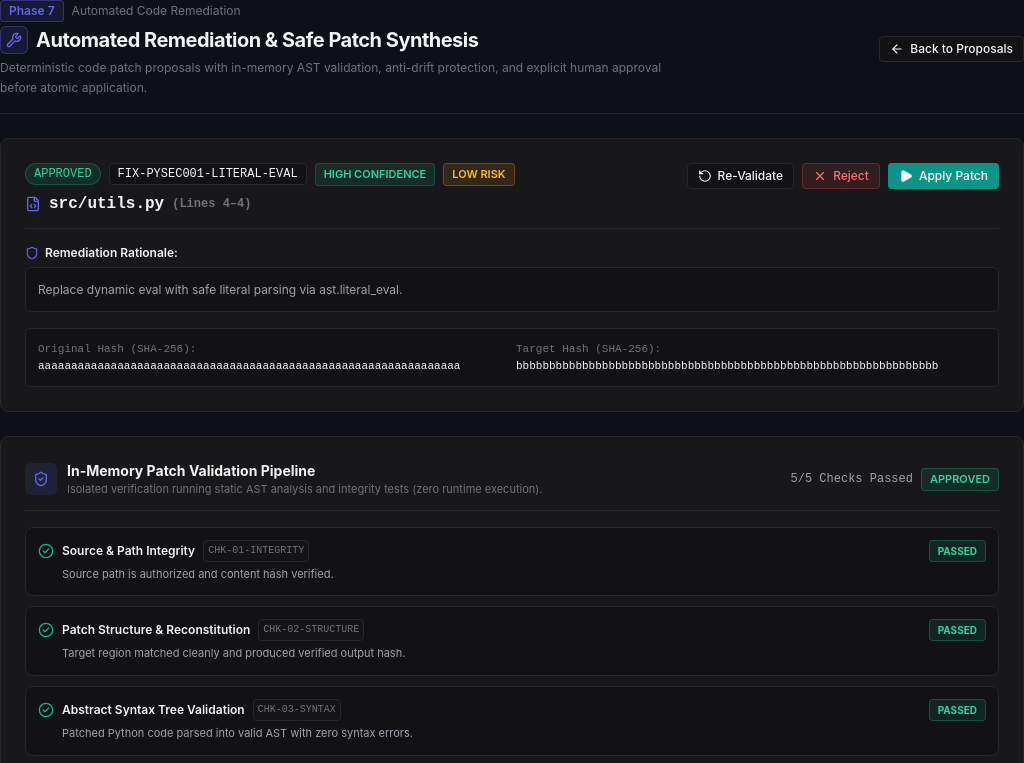
RemediationPage Component › executes safe patch application and displays success alert
Click the button "Apply Patch": (943, 176) 888,163 -> 999,189
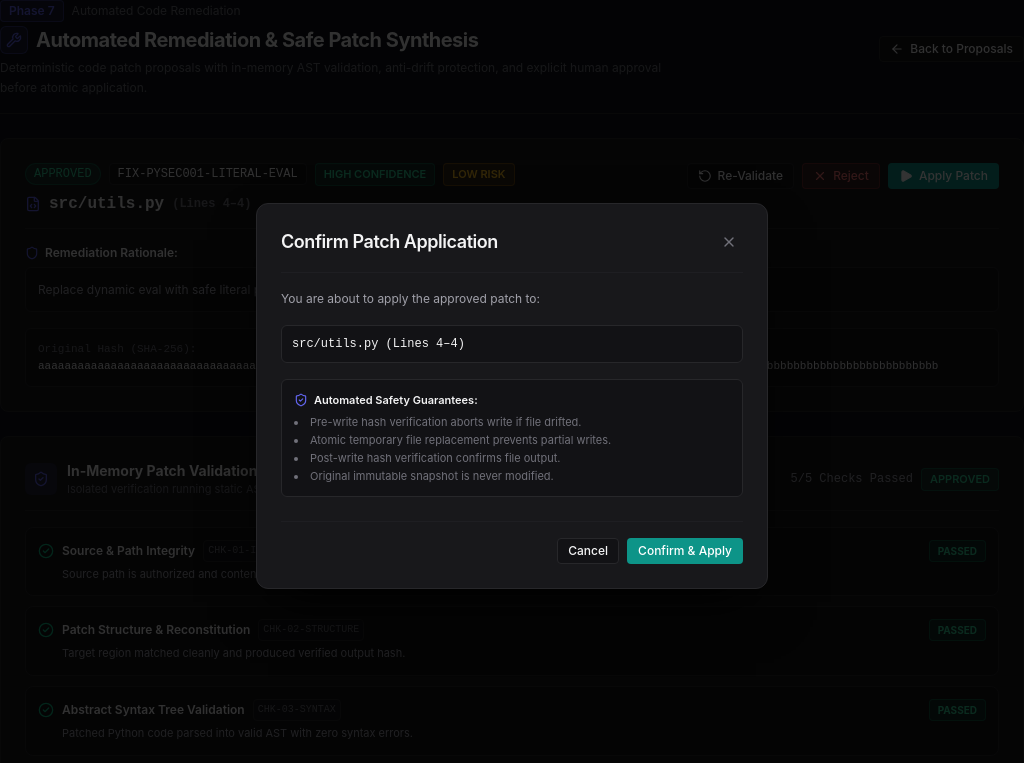
Expected: the button "Confirm & Apply" is shown
Click the button "Confirm & Apply": (685, 551) 627,538 -> 743,564
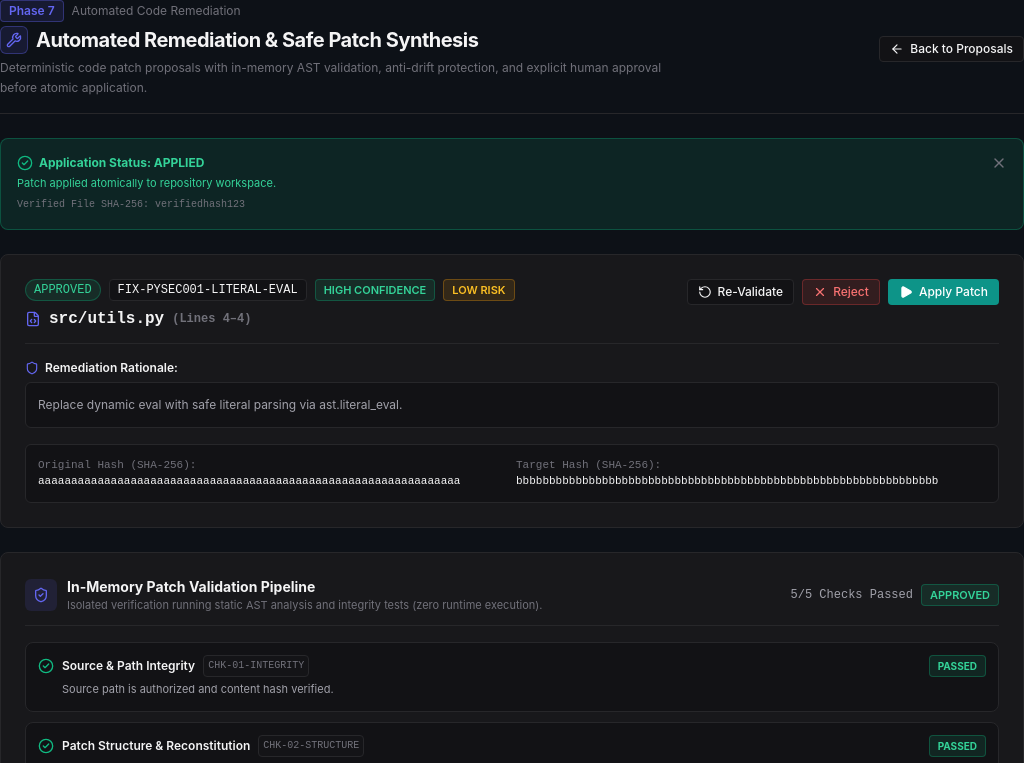
Expected: the text "Application Status: APPLIED" is shown, 39,155 -> 204,171
Expected: the text "Verified File SHA-256: verifiedhash123" is shown, 17,197 -> 276,213
